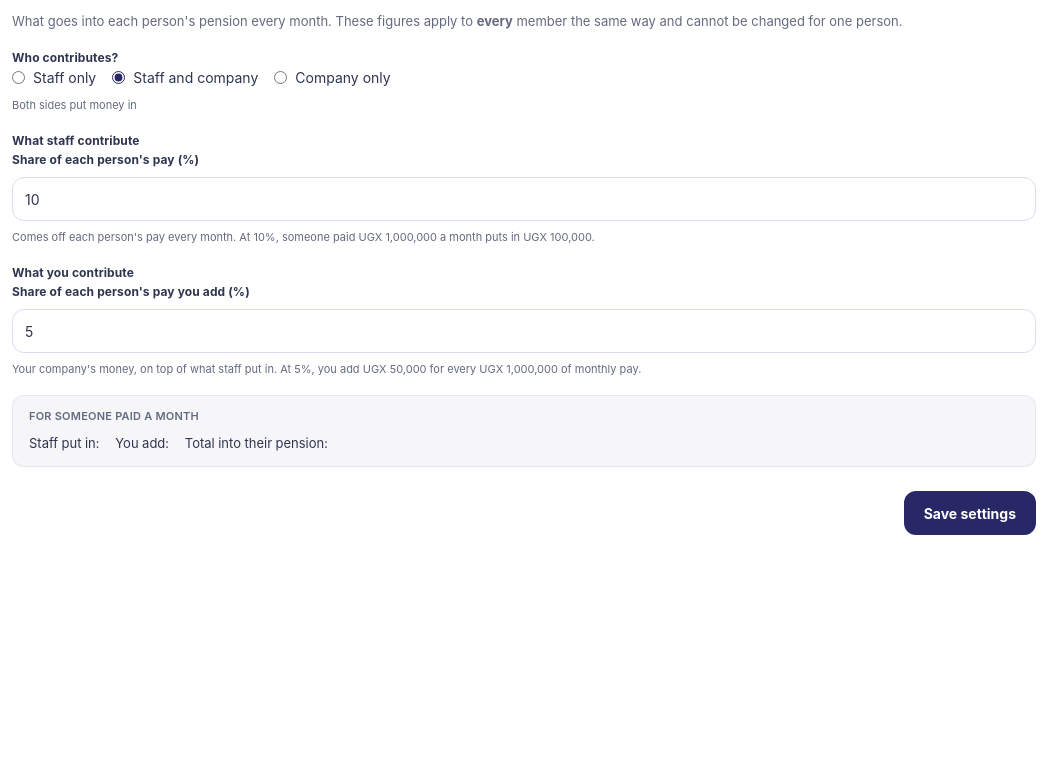
Test: toggling who contributes does not lose a typed figure › restores the staff percentage when switching back from “Company only”
The width and height of the screenshot is (1048, 780).
Click the radio button labelled "Company only": point(281, 78) 274,71 -> 287,84
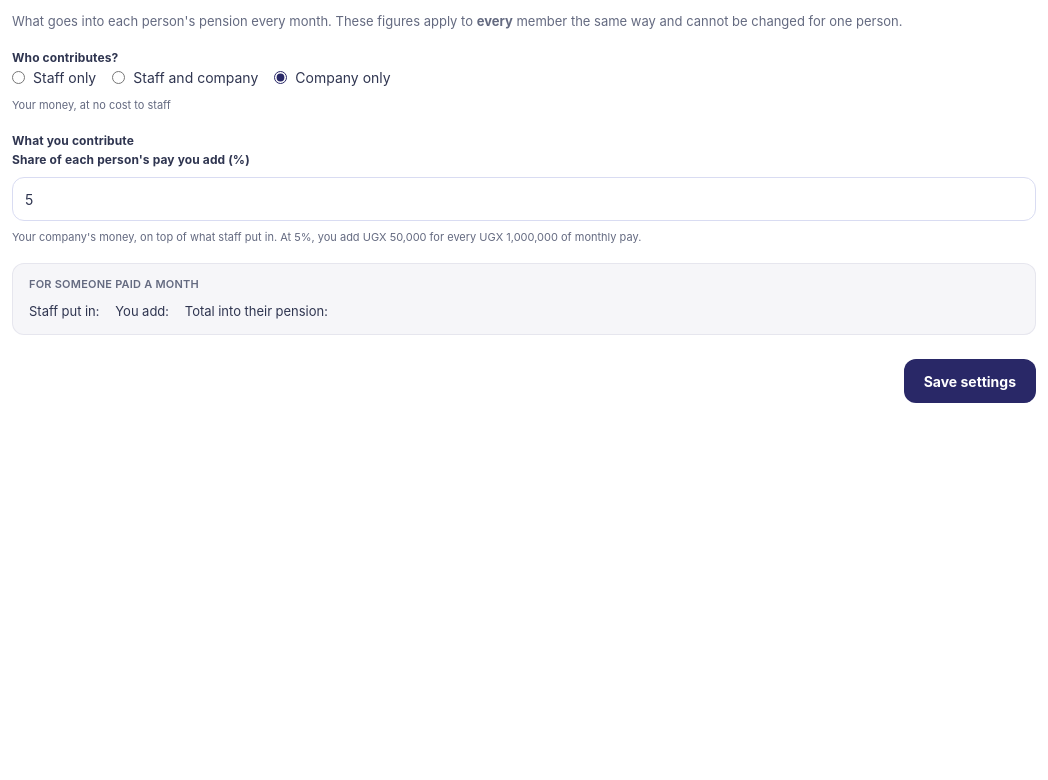
Now the label labelled "Share of each person's pay (%)" is gone
Click the radio button labelled "Staff and company": point(119, 78) 112,71 -> 125,84
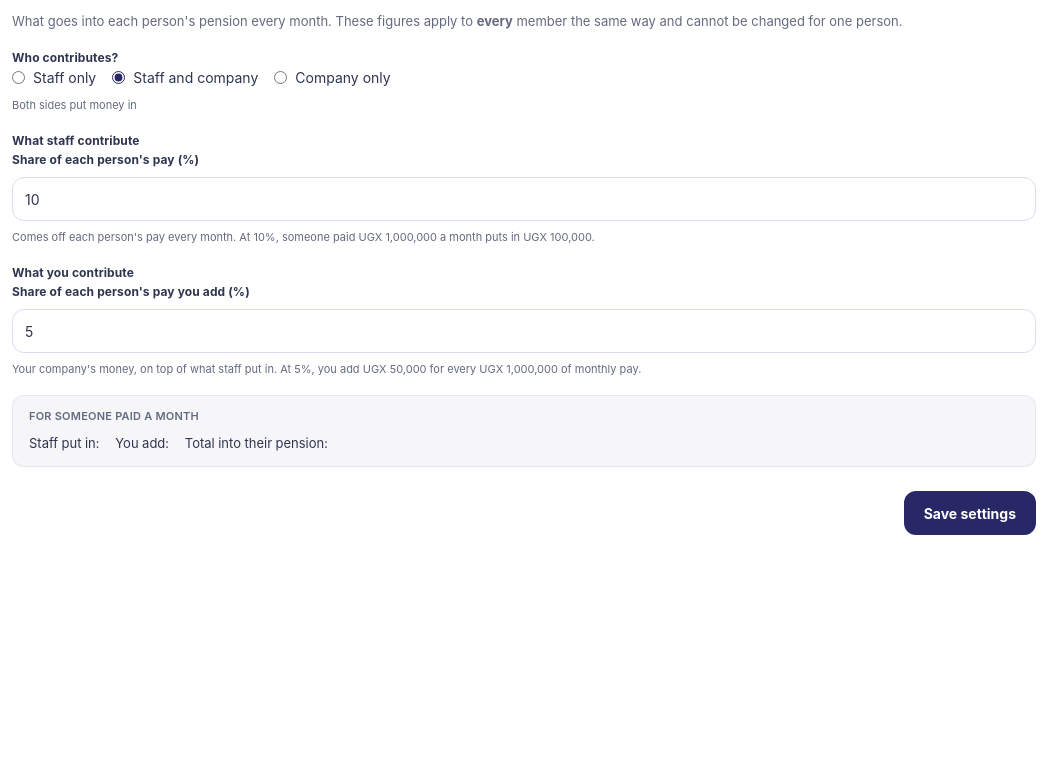
Now the number field labelled "Share of each person's pay (%)" holds "10", box 12,177 -> 1036,221
